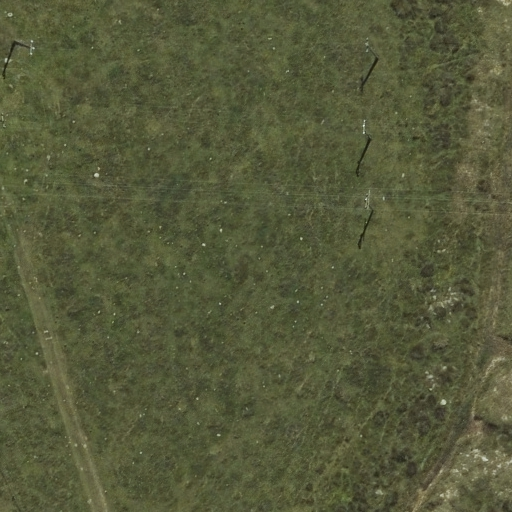DT: (360, 187, 377, 214), (361, 36, 379, 60), (356, 118, 374, 141), (25, 36, 40, 60)
